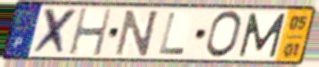H: (67, 7, 114, 58)
L: (156, 11, 187, 56)
M: (237, 12, 289, 59)
N: (113, 9, 161, 58)
O: (204, 9, 244, 60)
X: (29, 6, 81, 57)
